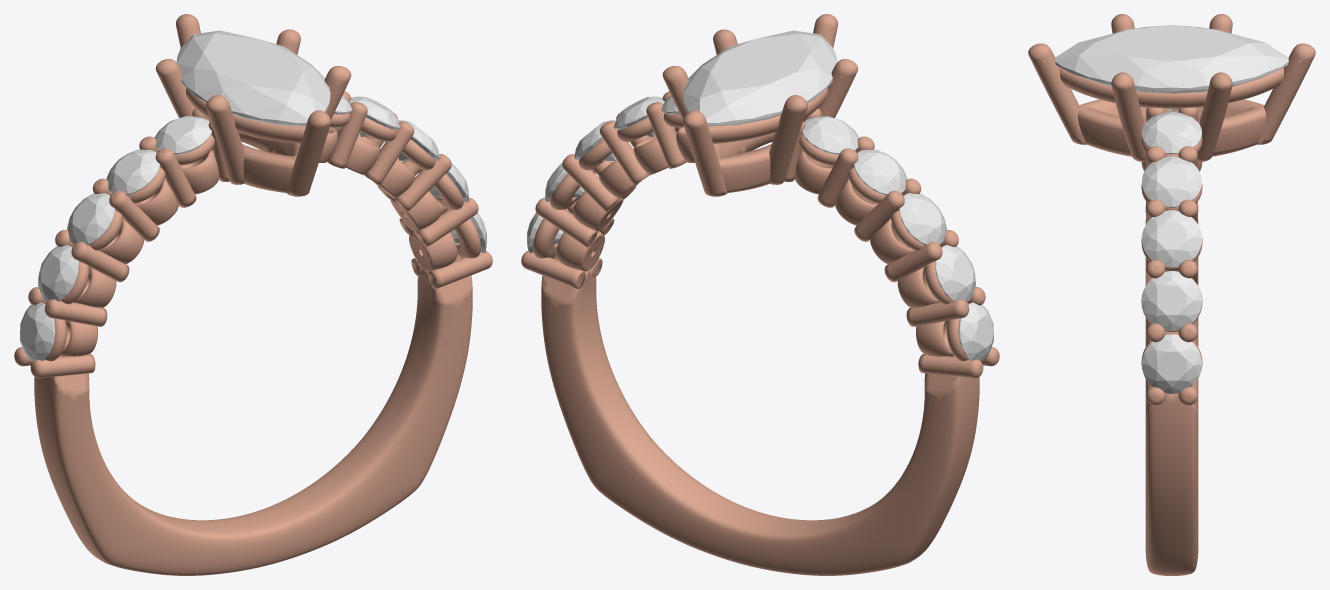
Rendered from diamond-marquise-rosegold-6prong-europeanshank-11stone.glb.
3 renders of one model, left to right at view 1: azimuth 30°, elevation 25°; view 2: azimuth 150°, elevation 25°; view 3: azimuth 270°, elevation 25°, orthographic.
Parts seen in each view (by area): view 1: metal.001, stone.001, side.012, side.011, side.013, side.010, side.014, side.018; view 2: metal.001, stone.001, side.012, side.011, side.013, side.010, side.014, side.018; view 3: metal.001, stone.001, side.016, side.015, side.017, side.018, side.019.
Part boxes in pixels (x1,y1,x2,y2): metal.001: (14, 14, 492, 575); stone.001: (176, 30, 330, 126); side.012: (67, 193, 114, 245); side.011: (38, 245, 78, 301); side.013: (106, 149, 160, 194); side.010: (20, 302, 55, 361); side.014: (154, 116, 211, 154); side.018: (349, 96, 400, 137); metal.001: (521, 14, 999, 575); stone.001: (683, 30, 837, 126); side.012: (899, 193, 946, 245); side.011: (935, 245, 975, 301); side.013: (853, 149, 907, 195); side.010: (958, 302, 993, 361); side.014: (802, 116, 859, 154); side.018: (613, 96, 664, 137); metal.001: (1028, 14, 1315, 575); stone.001: (1055, 25, 1288, 111); side.016: (1142, 271, 1201, 330); side.015: (1142, 334, 1201, 393); side.017: (1142, 210, 1201, 267); side.018: (1142, 156, 1201, 207); side.019: (1142, 112, 1201, 154).
Bounding box in the file's own units: 21.88 × 22.73 × 11.96.
